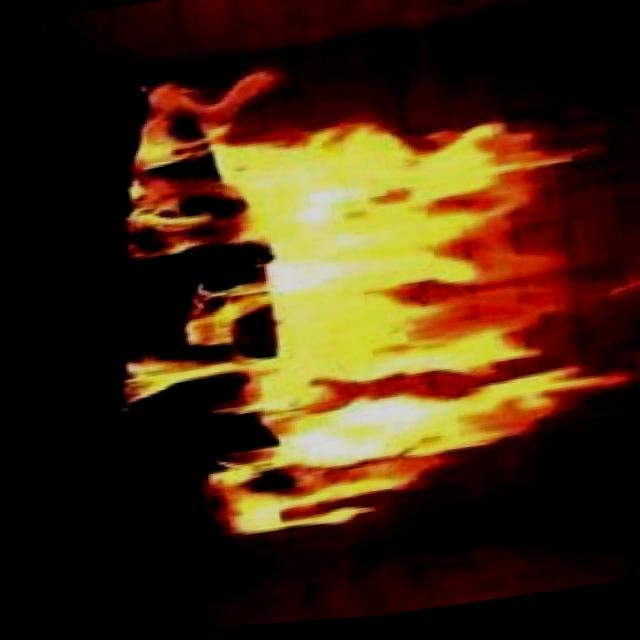Smoke: (62, 14, 640, 563)
